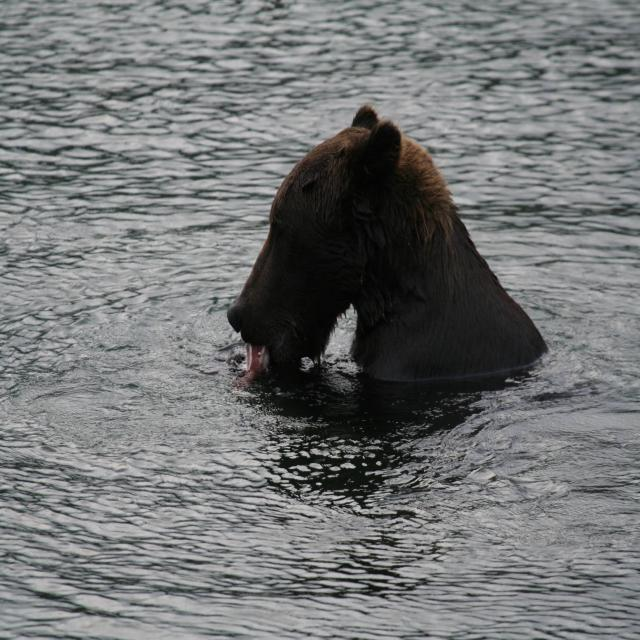bear face: (229, 104, 549, 370)
